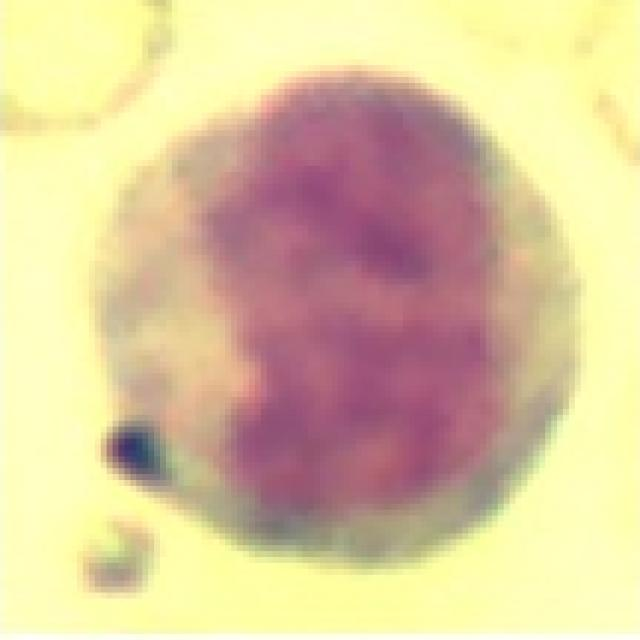WBC: (59, 59, 599, 587)
